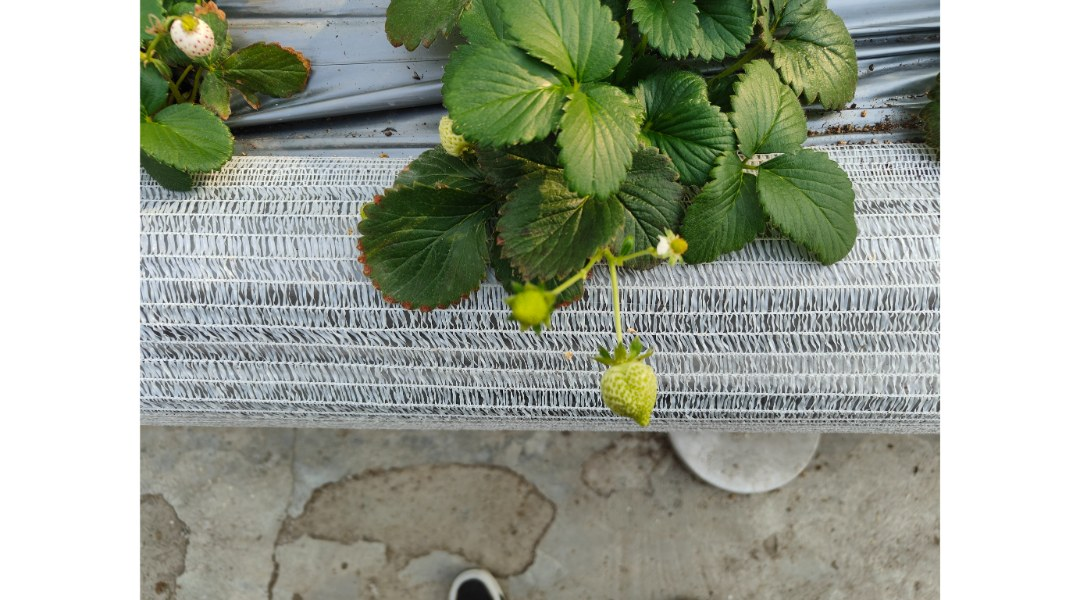berry: (593, 332, 664, 433), (492, 281, 559, 336), (657, 226, 686, 265)
strain: (602, 267, 629, 338), (564, 263, 593, 290), (612, 250, 656, 265)
